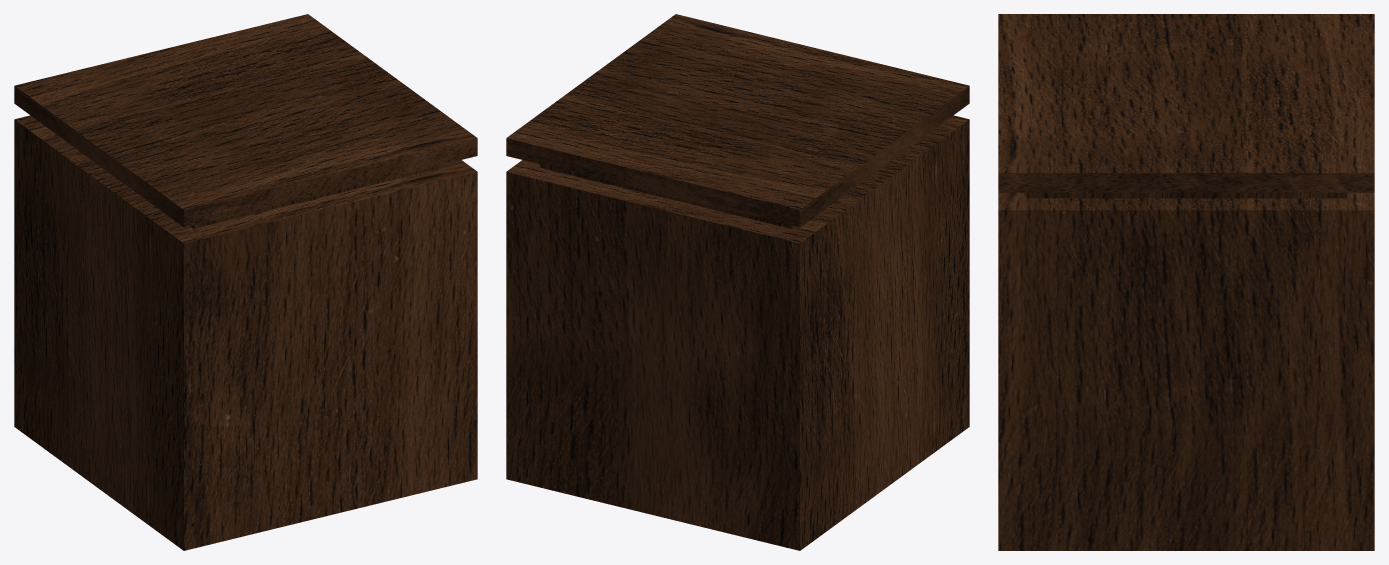
File: mueble_dae.fbx
The picture shows the model from 3 angles, left to right: view 1: azimuth 30°, elevation 25°; view 2: azimuth 150°, elevation 25°; view 3: azimuth 270°, elevation 25°; orthographic projection. The views are drawn at different scales.
Visible parts, largest first — view 1: Cube; view 2: Cube; view 3: Cube.
Part boxes in pixels (x1,y1,x2,y2): Cube: [14, 14, 477, 550]; Cube: [506, 14, 969, 550]; Cube: [998, 14, 1374, 550].
Size of the model in its own units: 200 by 222 by 200.
Materials: 1 (1 with a texture image).
